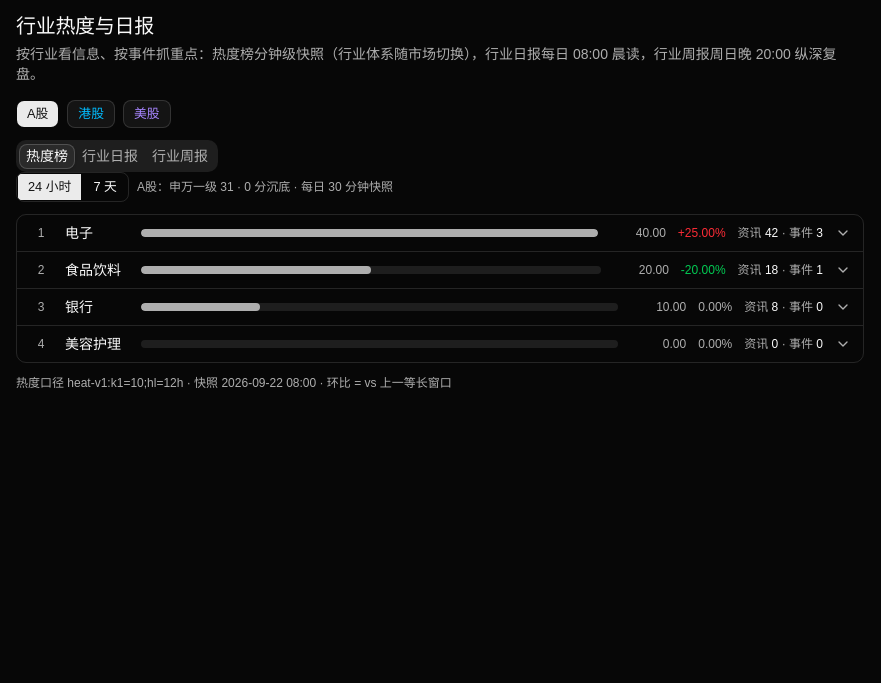
Scenario: IndustryHeat 行业热度与日报页（T126）· 热度榜 Tab › 下钻 events 切换：事件行展示类型徽章/方向/重要度（与事件流同口径）
Click the button with test id "heat-row-电子". click: (440, 233)
box: left=17, top=215, right=863, bottom=251
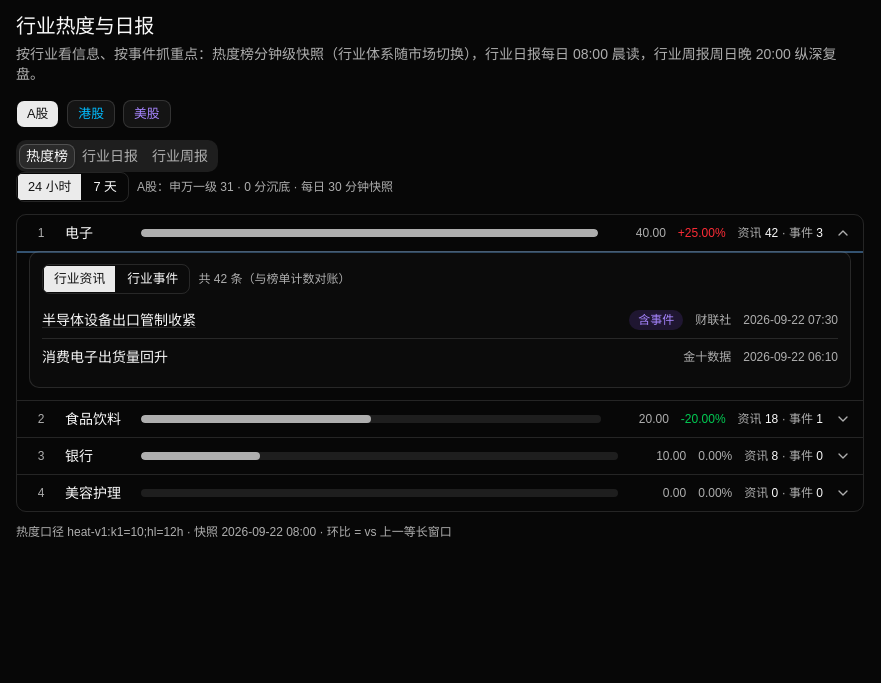
Result: the element with test id "heat-drilldown-电子" is shown at left=29, top=251, right=851, bottom=388
Click the button with test id "drill-type-events-电子". click: (153, 279)
box: left=116, top=265, right=189, bottom=293
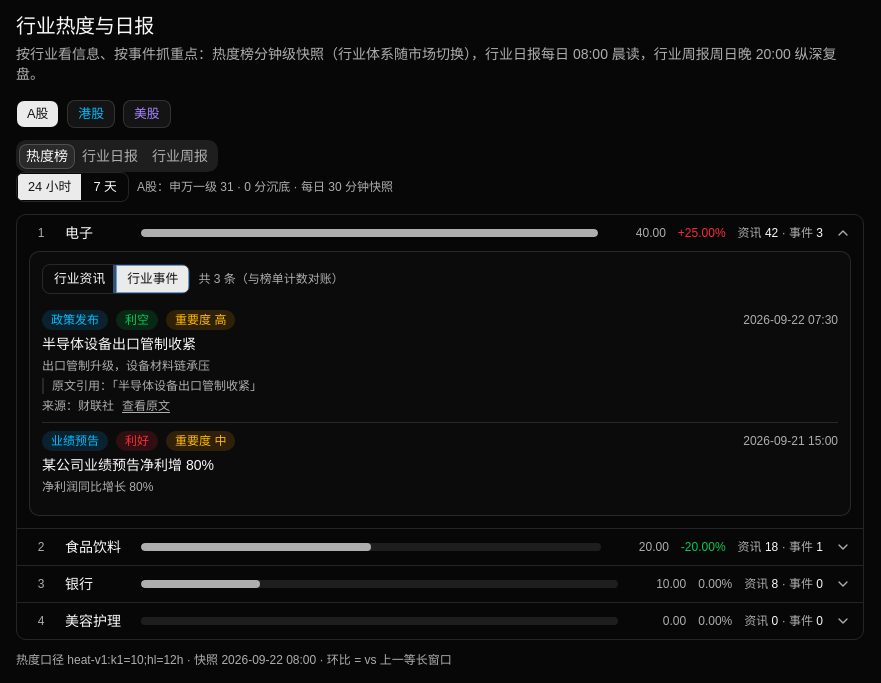
Result: the text with test id "drill-total-电子" shows "3" at left=214, top=272, right=220, bottom=286
Result: the text "政策发布" is shown at left=42, top=310, right=108, bottom=330
Result: the icon "利空" is shown at left=116, top=310, right=158, bottom=330
